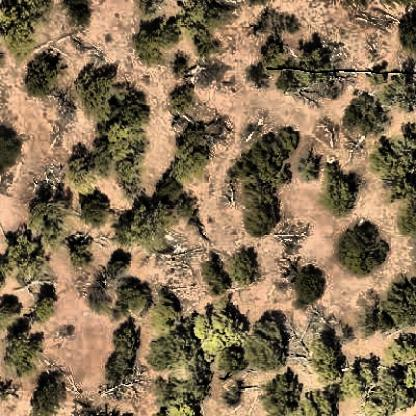tree-top: (101, 84, 151, 184), (118, 178, 190, 244), (236, 123, 300, 192), (347, 364, 416, 416), (281, 47, 343, 103), (334, 217, 388, 276), (192, 304, 247, 361), (242, 312, 295, 371), (68, 61, 120, 116), (171, 121, 216, 180), (147, 323, 200, 373), (365, 135, 416, 181), (374, 276, 416, 330), (242, 186, 283, 239), (0, 8, 43, 57), (156, 376, 208, 416), (26, 193, 72, 238), (132, 14, 179, 58), (309, 330, 344, 387), (62, 146, 104, 192), (106, 320, 144, 370), (341, 91, 385, 134), (261, 371, 303, 416), (320, 172, 361, 218), (4, 226, 45, 270), (114, 275, 156, 316), (224, 244, 263, 288), (3, 326, 45, 366), (22, 51, 60, 95), (290, 266, 330, 306), (27, 373, 65, 415), (75, 188, 114, 225), (63, 232, 100, 271), (148, 293, 184, 333), (188, 0, 231, 29), (82, 286, 118, 319), (301, 387, 337, 416), (102, 248, 135, 279), (385, 74, 416, 107), (386, 332, 416, 366), (28, 293, 60, 324), (166, 83, 198, 114), (295, 151, 325, 182), (258, 39, 289, 69), (0, 128, 22, 170), (398, 11, 416, 61), (0, 295, 21, 332), (397, 204, 416, 240), (65, 0, 91, 24)
